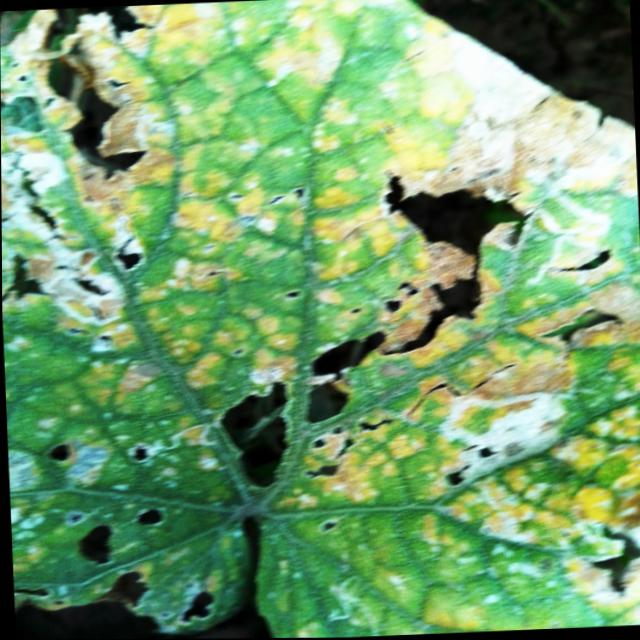Anthracnose: (213, 162, 545, 495), (0, 5, 161, 354), (78, 500, 232, 626)
